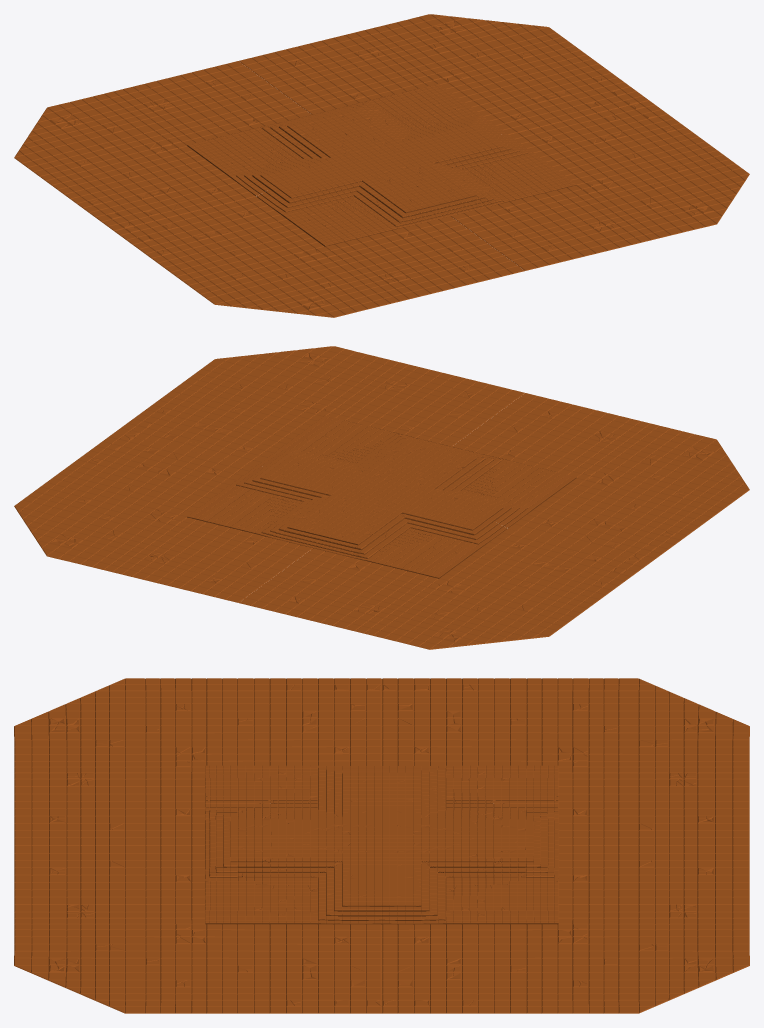
The model's file is Egyptian_floor.FBX.
3 renders of one model, top to bottom at view 1: azimuth 30°, elevation 25°; view 2: azimuth 150°, elevation 25°; view 3: azimuth 270°, elevation 25°, orthographic. The views are drawn at different scales.
Visible parts, largest first — view 1: Egyptian_floor; view 2: Egyptian_floor; view 3: Egyptian_floor.
Boxes of the visible parts, <box> form: Egyptian_floor: <box>14,14,749,317</box>; Egyptian_floor: <box>14,346,749,649</box>; Egyptian_floor: <box>14,678,749,1013</box>.
Bounding box in the file's own units: 12281 × 156 × 11406.
